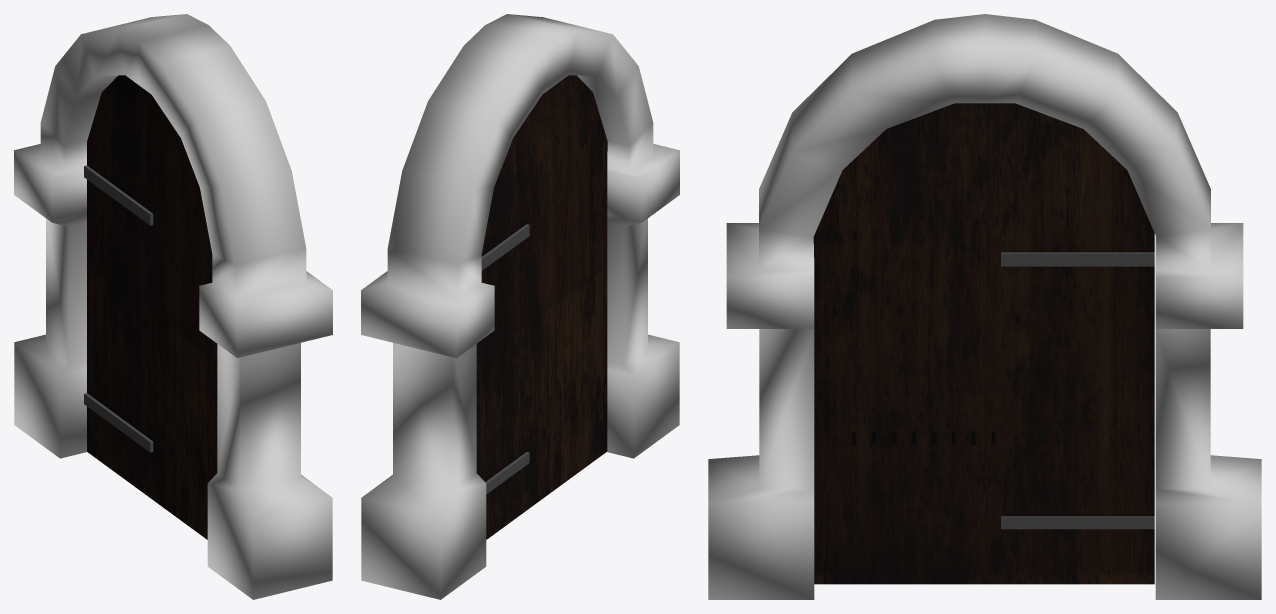
Rendered from puerta_final_v2.fbx.
3 views of the same model, side by side, from view 1: azimuth 30°, elevation 25°; view 2: azimuth 150°, elevation 25°; view 3: azimuth 270°, elevation 25° (orthographic). The views are drawn at different scales.
Visible parts, largest first — view 1: marco, puerta; view 2: marco, puerta; view 3: puerta, marco.
Boxes of the visible parts, x1=… form: marco: x1=14, y1=14, x2=332, y2=599; puerta: x1=84, y1=75, x2=217, y2=539; marco: x1=361, y1=14, x2=679, y2=599; puerta: x1=476, y1=75, x2=607, y2=539; puerta: x1=813, y1=103, x2=1154, y2=584; marco: x1=708, y1=14, x2=1261, y2=599.
Size of the model in its own units: 66.57 by 312 by 288.
